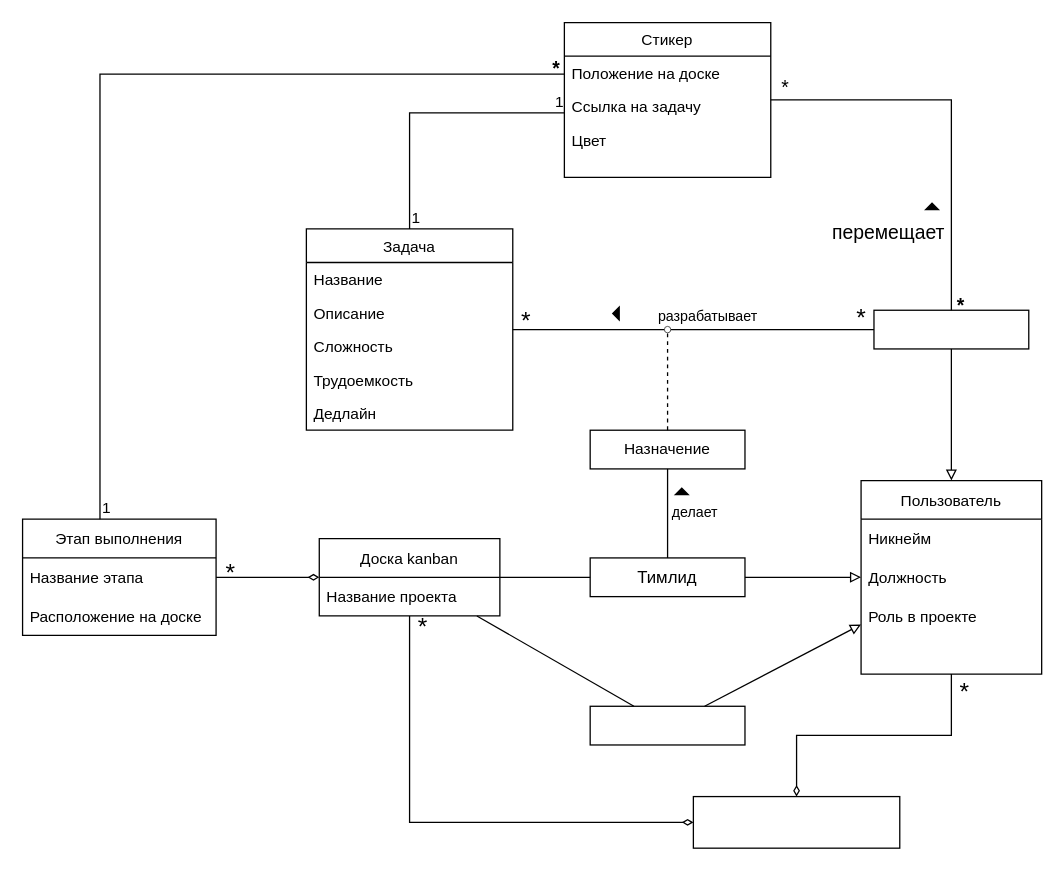
This 1064x871 diagram has some shape labels left out. The centre of each missing label's shape, as x and y in pixels:
"Заказчик" belongs at [667,725].
"Приложение" belongs at [796,821].
"Разработчик" belongs at [951,329].
